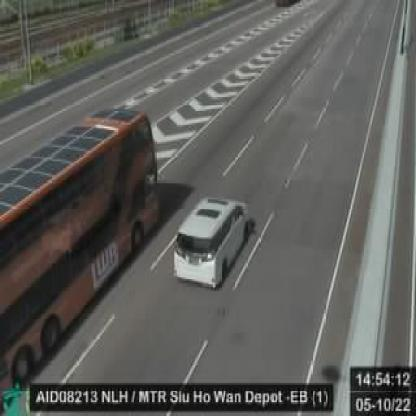Bus: (0, 110, 157, 412)
Car: (174, 196, 248, 288)
